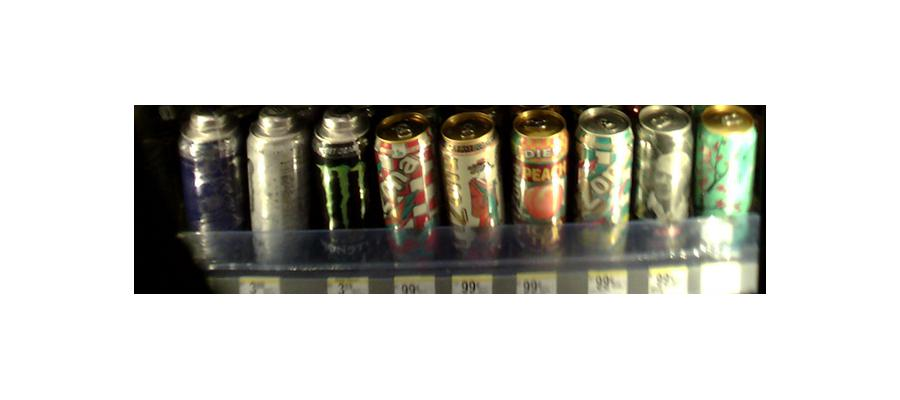bottle: (179, 110, 246, 274), (312, 110, 376, 260), (249, 109, 310, 266), (379, 114, 440, 265), (443, 115, 502, 265), (698, 107, 755, 262), (510, 111, 568, 260), (574, 111, 631, 261), (640, 108, 692, 254)
